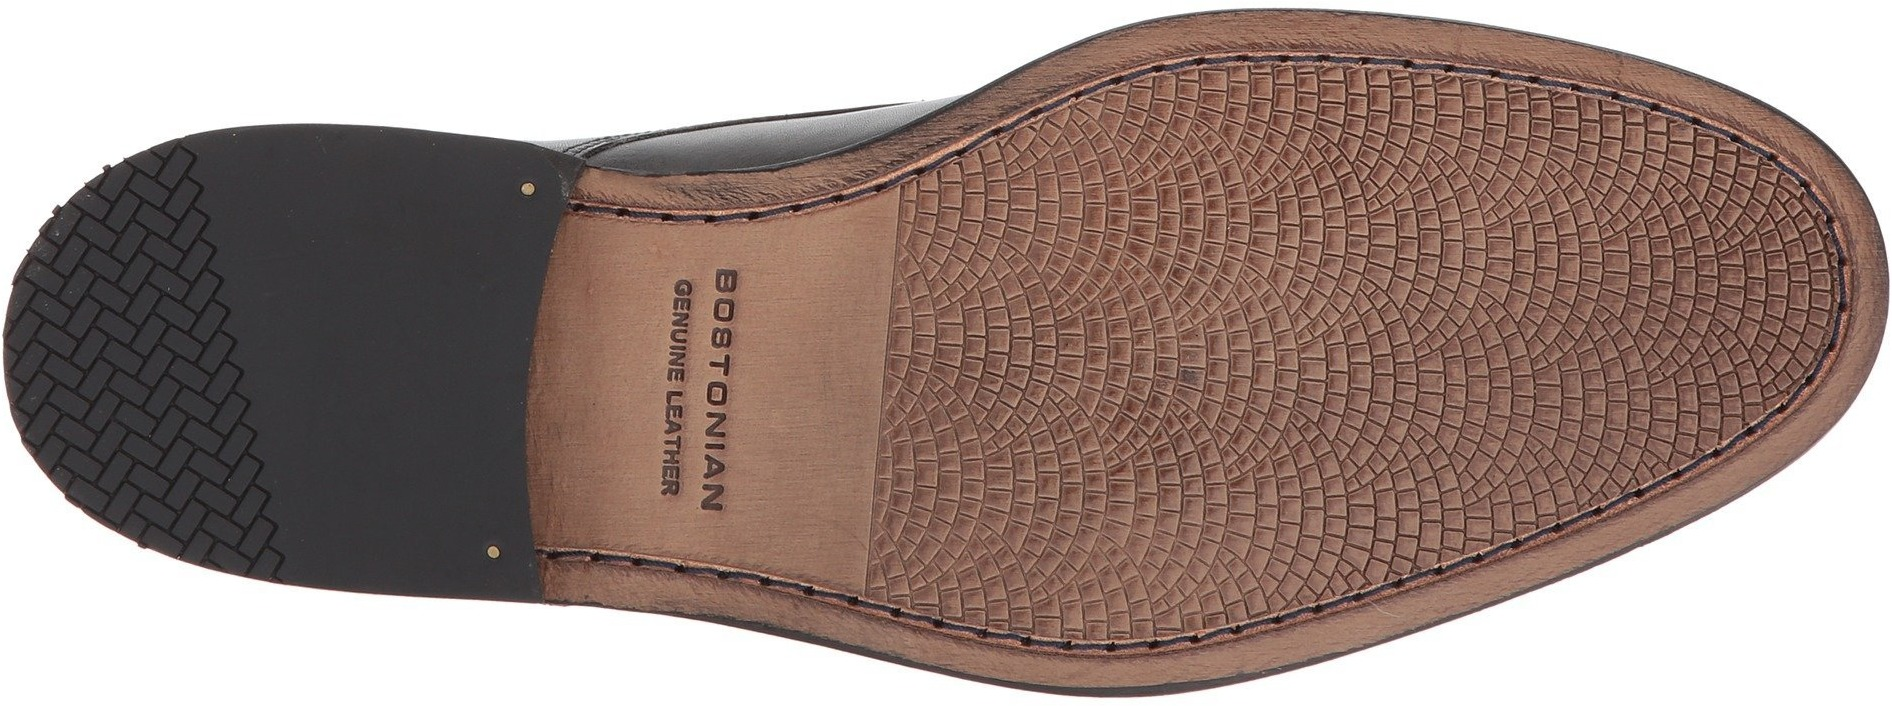other: (227, 147, 424, 352), (265, 358, 471, 544)
quad: (1427, 122, 1684, 393), (919, 179, 1170, 428), (1174, 326, 1426, 558), (1180, 81, 1421, 319), (927, 440, 1105, 623), (33, 245, 218, 418), (1690, 189, 1826, 329), (1432, 401, 1563, 520), (105, 424, 233, 535)
